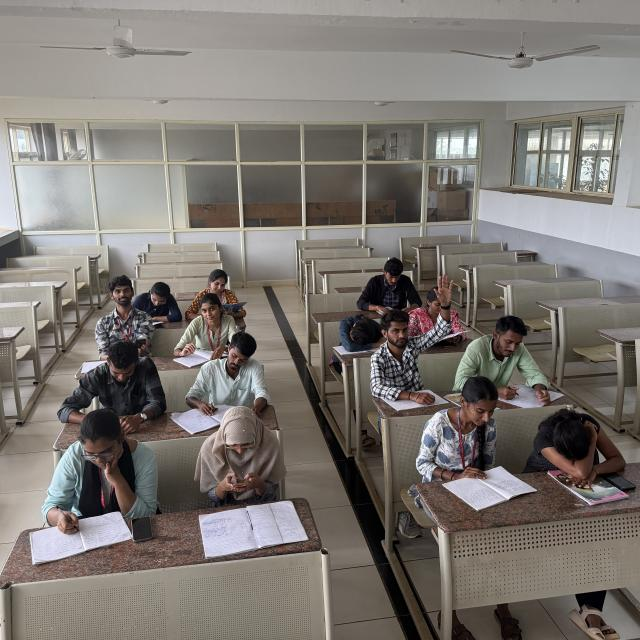Hand Rising: (377, 271, 456, 392)
Reading: (436, 381, 520, 498), (357, 255, 419, 313), (190, 266, 247, 314), (133, 275, 183, 328)
Sleeping: (537, 408, 623, 468), (336, 315, 388, 346)
Using Phone: (201, 410, 283, 504)
Writing: (47, 408, 135, 536), (474, 317, 565, 406), (186, 336, 264, 418), (177, 298, 232, 367)
